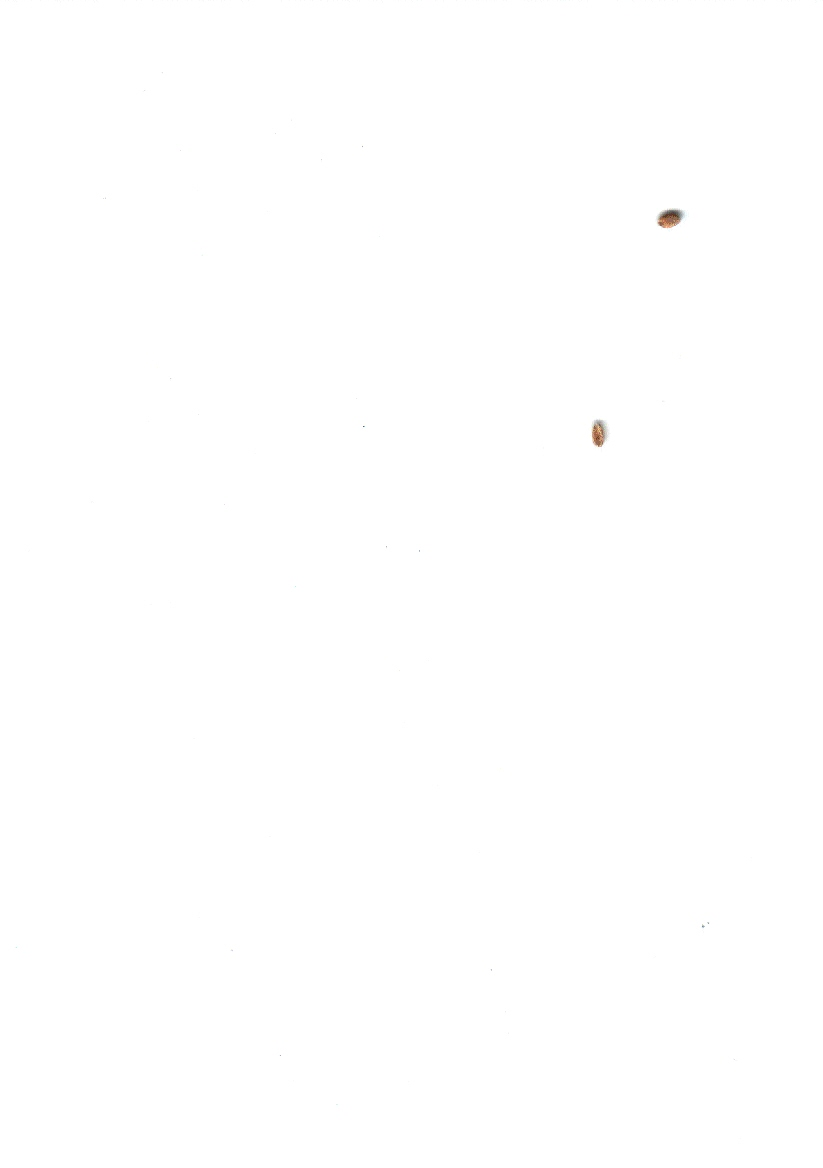grains: (572, 410, 627, 462), (650, 199, 692, 245)
